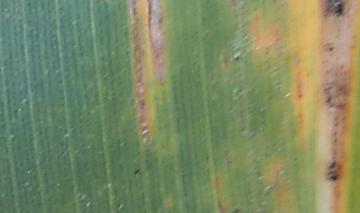tarspot: (318, 1, 348, 18), (325, 175, 339, 183), (133, 167, 141, 176), (231, 206, 241, 213), (329, 161, 336, 170), (326, 46, 335, 53), (232, 54, 240, 61), (296, 92, 304, 99)
